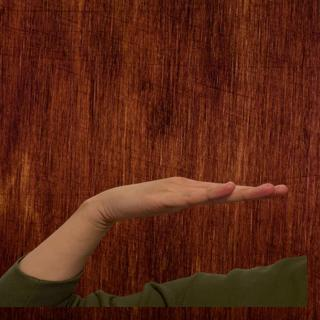WAIT: (89, 172, 292, 226)
